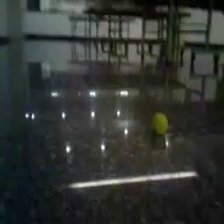tennis: (151, 112, 170, 136)
